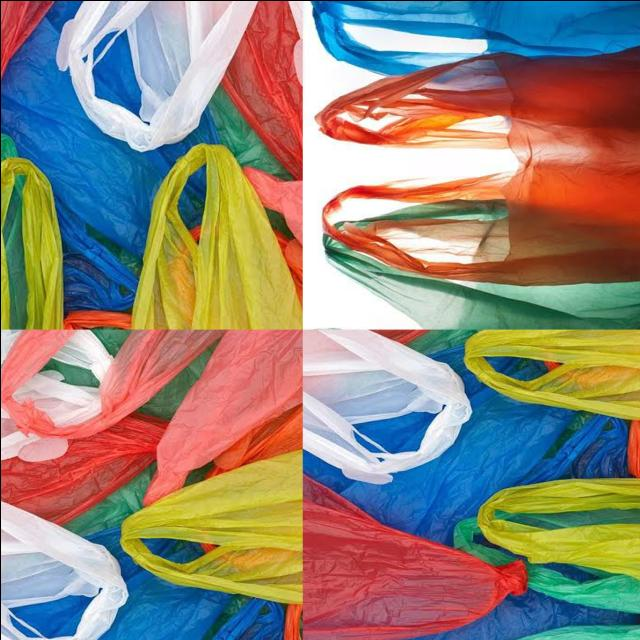plastik: (315, 47, 640, 284), (0, 0, 217, 310), (303, 347, 627, 543), (323, 198, 640, 329), (302, 474, 526, 640), (131, 143, 300, 329), (56, 0, 257, 150), (122, 451, 302, 602), (145, 329, 300, 503), (302, 329, 470, 483), (311, 0, 640, 75), (0, 329, 223, 439), (94, 529, 283, 640), (0, 332, 133, 488), (0, 413, 168, 523), (0, 500, 126, 640), (476, 478, 640, 581), (464, 329, 640, 419), (220, 0, 302, 178), (400, 590, 636, 640), (0, 156, 61, 329), (0, 0, 52, 80), (510, 624, 640, 640)
